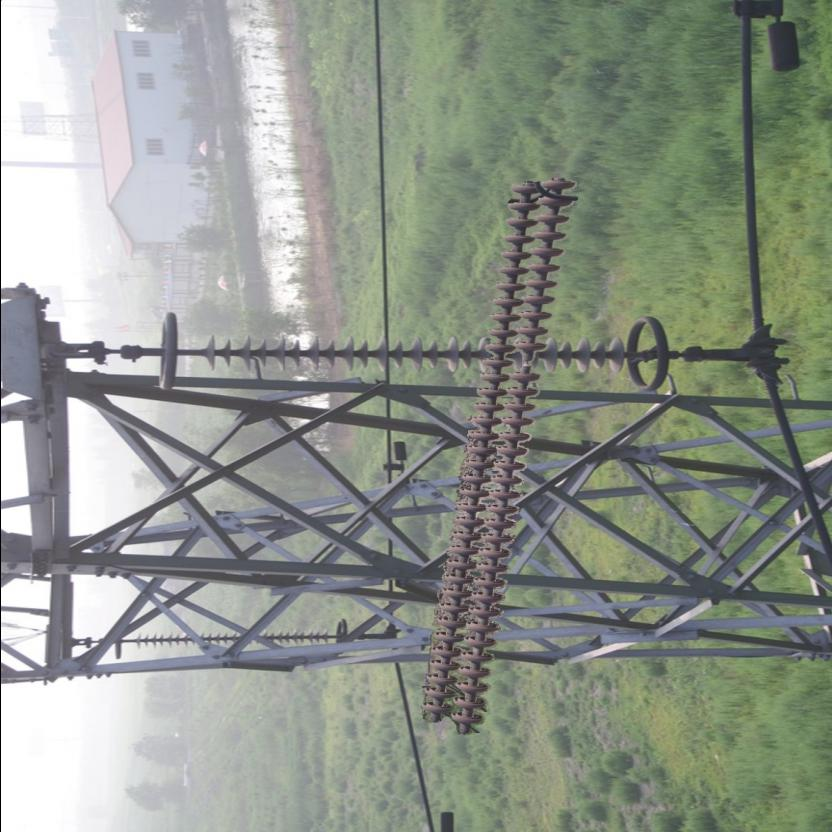defect: (503, 335, 547, 390)
